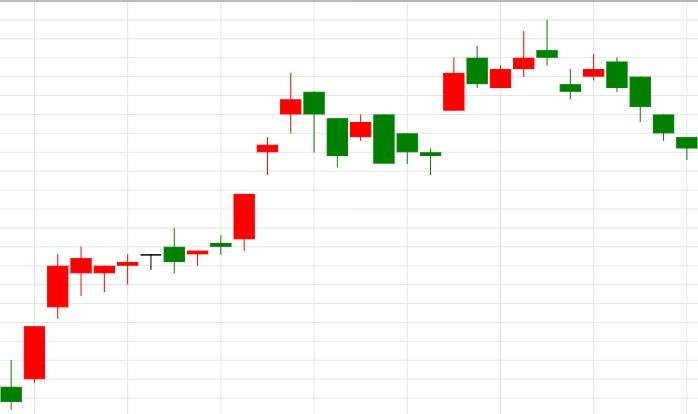hanging_man_fall: (0, 73, 326, 410)
